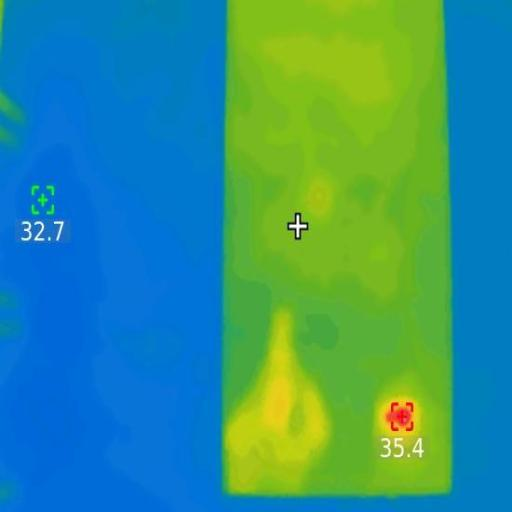hotspot: (388, 410, 412, 432)
